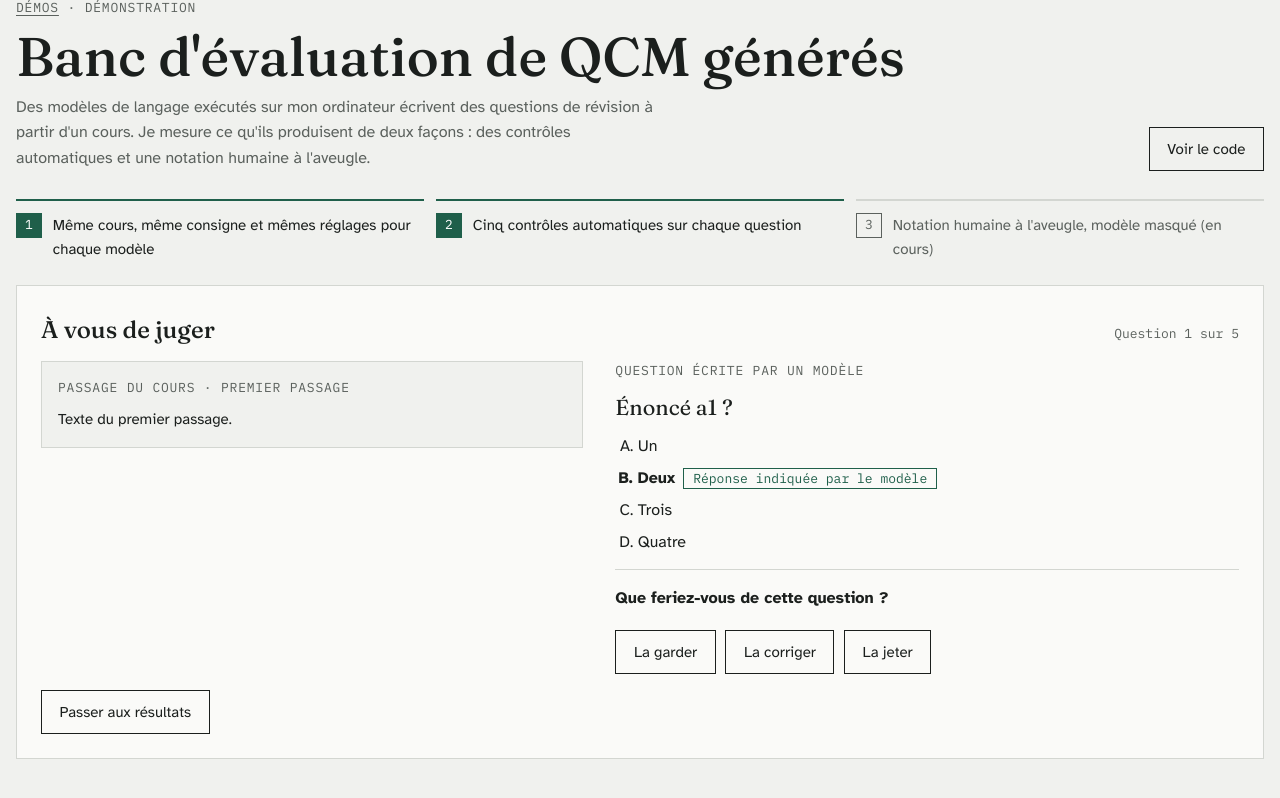
Scenario: page du banc › n'affiche ni croisement ni avis humain sans notation
Later steps or results of the test are not shown.
Check: the text "Notation humaine à l'aveugle, modèle masqué (en cours)" is shown, box left=893, top=213, right=1264, bottom=261
Click the button "La garder": (666, 652) left=615, top=630, right=716, bottom=674
(page scrolled)
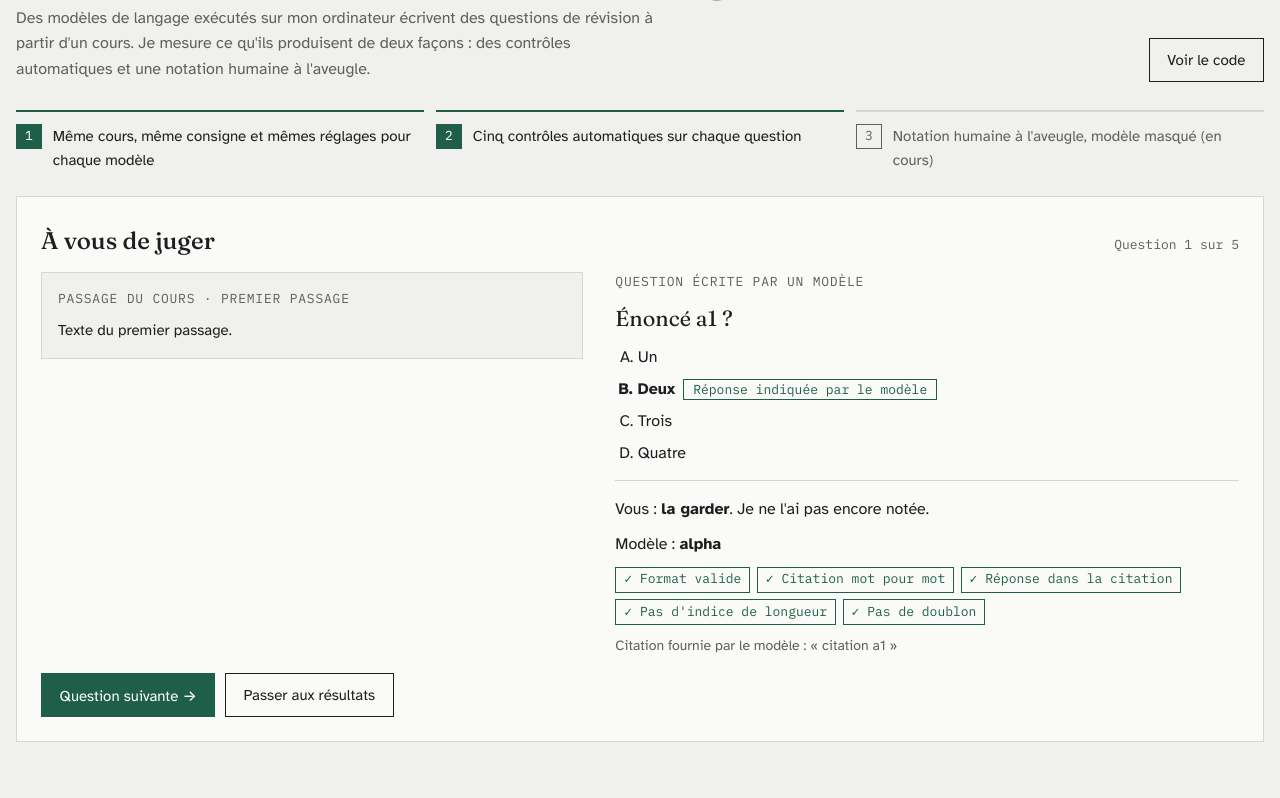
Check: the text "Vous : la garder. Je ne l'ai pas encore notée." is shown, box left=615, top=498, right=929, bottom=518
